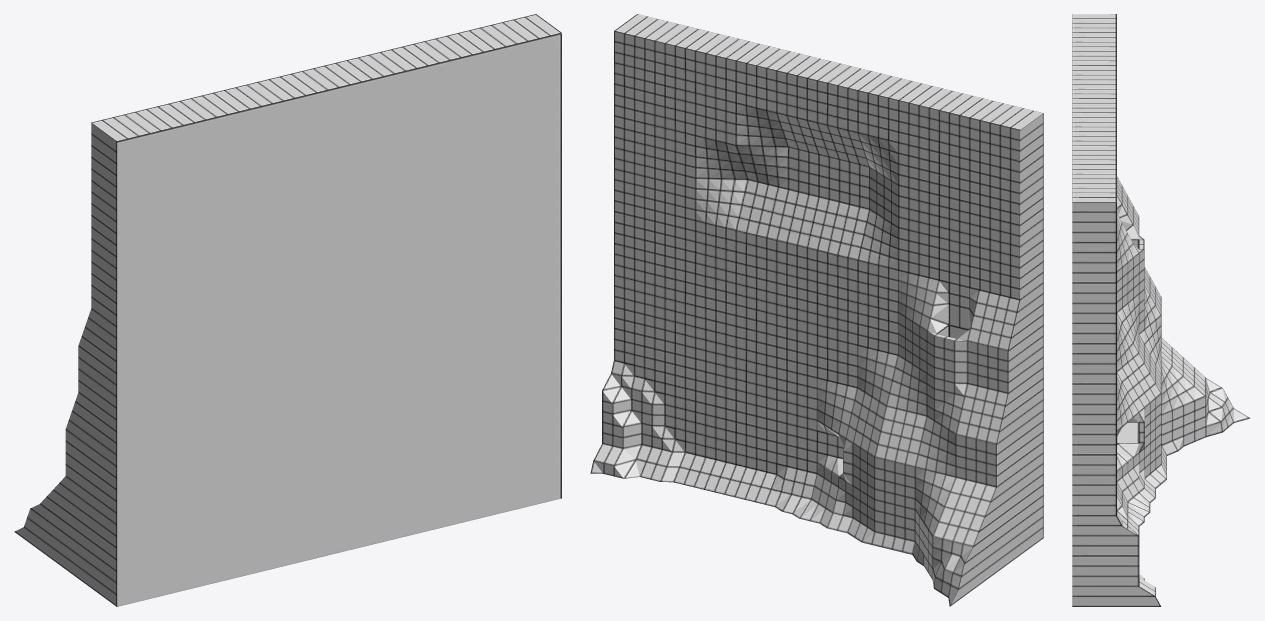
Rendered from land-1c.dae.
The picture shows the model from 3 angles, left to right: view 1: azimuth 30°, elevation 25°; view 2: azimuth 150°, elevation 25°; view 3: azimuth 270°, elevation 25°; orthographic projection. The views are drawn at different scales.
Visible parts, largest first — view 1: trainset_land; view 2: trainset_land; view 3: trainset_land.
Part boxes in pixels (x1,y1,x2,y2): trainset_land: [14, 14, 561, 606]; trainset_land: [590, 14, 1043, 606]; trainset_land: [1072, 14, 1250, 606].
Size of the model in its own units: 20 by 8 by 20.
